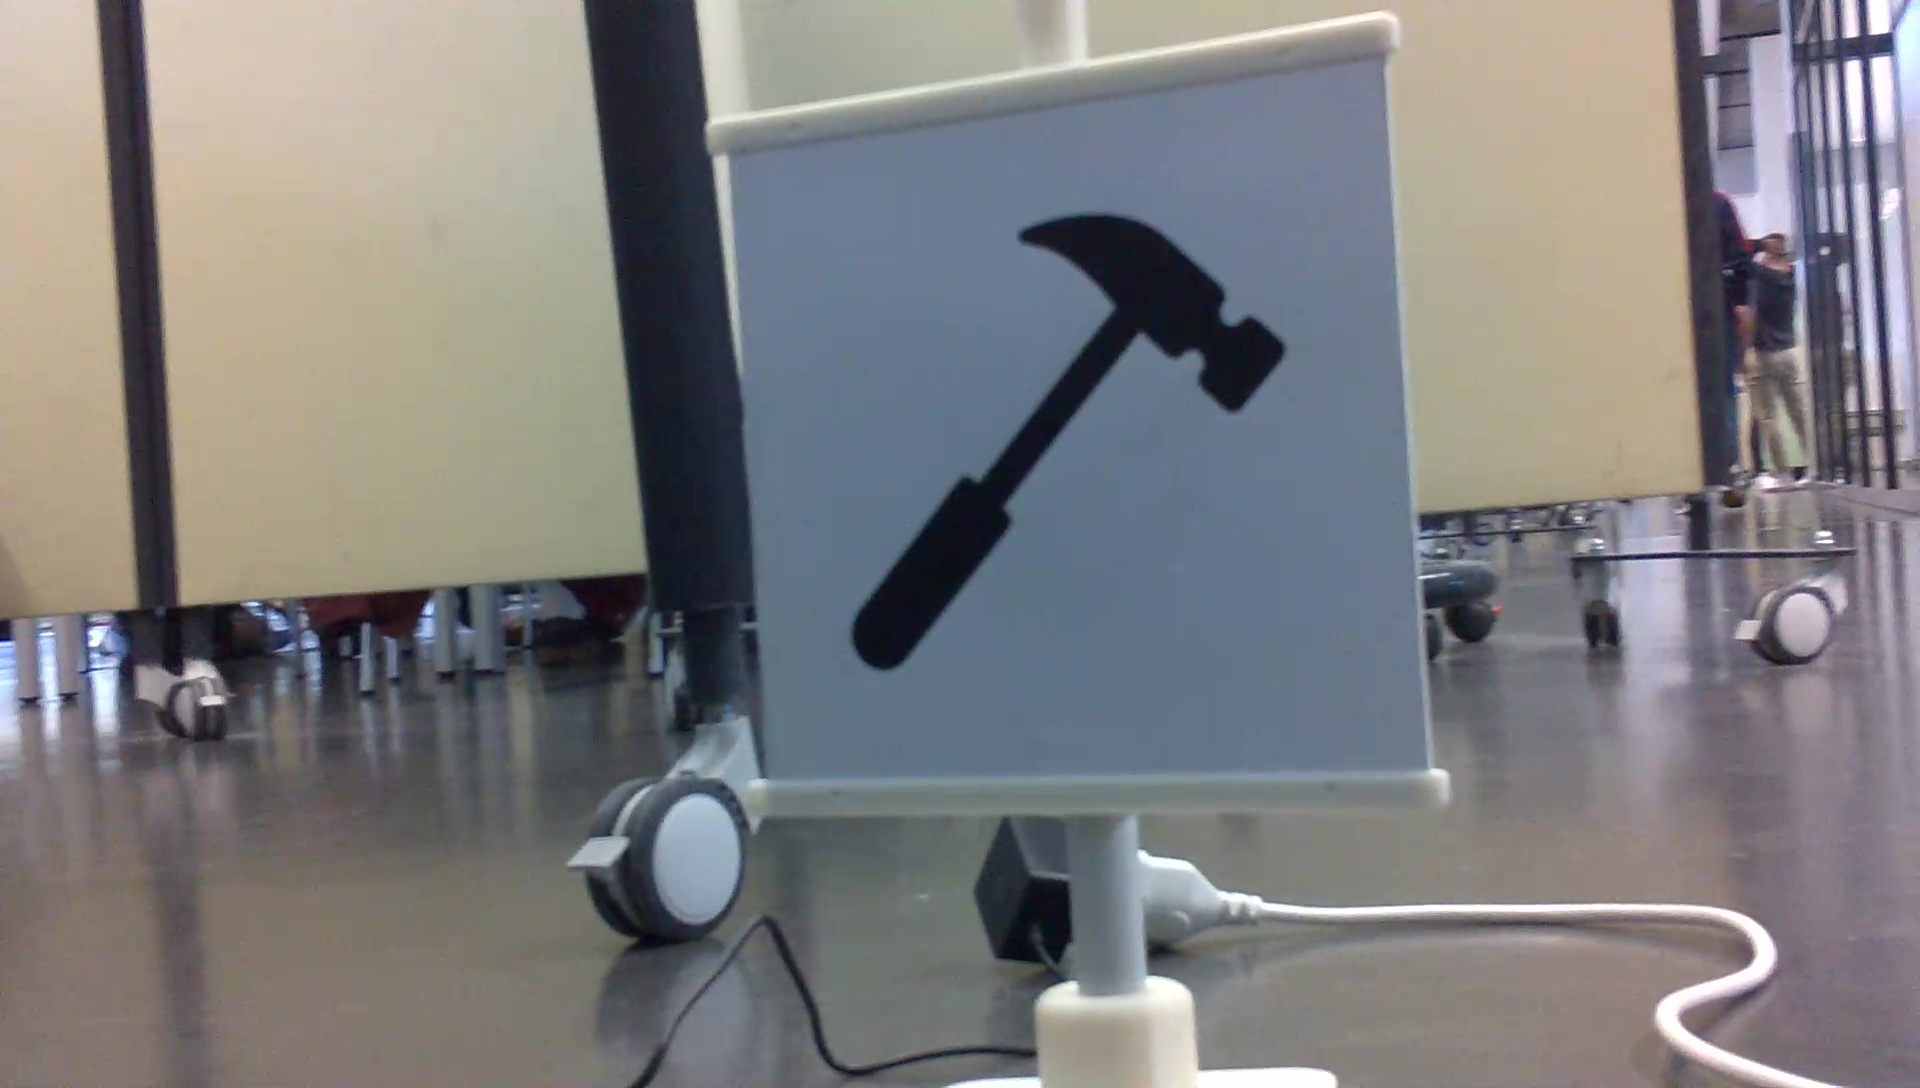hammer: (840, 200, 1300, 680)
